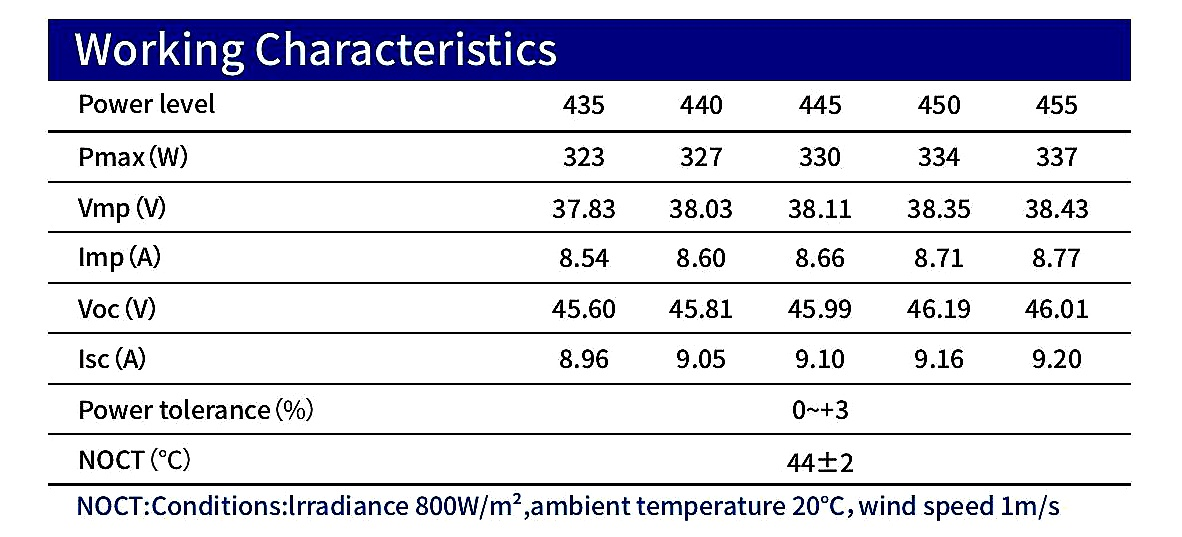table: (45, 17, 1141, 531)
table column: (56, 20, 515, 528), (886, 19, 1013, 527), (516, 22, 643, 527), (643, 20, 768, 525), (767, 18, 883, 527), (1014, 21, 1128, 528)
table name: (53, 20, 1124, 79)
table row: (52, 22, 1130, 78), (56, 336, 1132, 383), (50, 235, 1135, 280), (48, 84, 1130, 129), (50, 185, 1133, 229), (52, 286, 1133, 330), (49, 138, 1133, 180), (53, 439, 1131, 481), (52, 391, 1134, 429), (55, 489, 1133, 525)
table row header: (53, 22, 513, 526)
table spanning cell: (53, 22, 1125, 79), (55, 488, 1131, 526), (516, 433, 1128, 484), (514, 385, 1129, 429)
